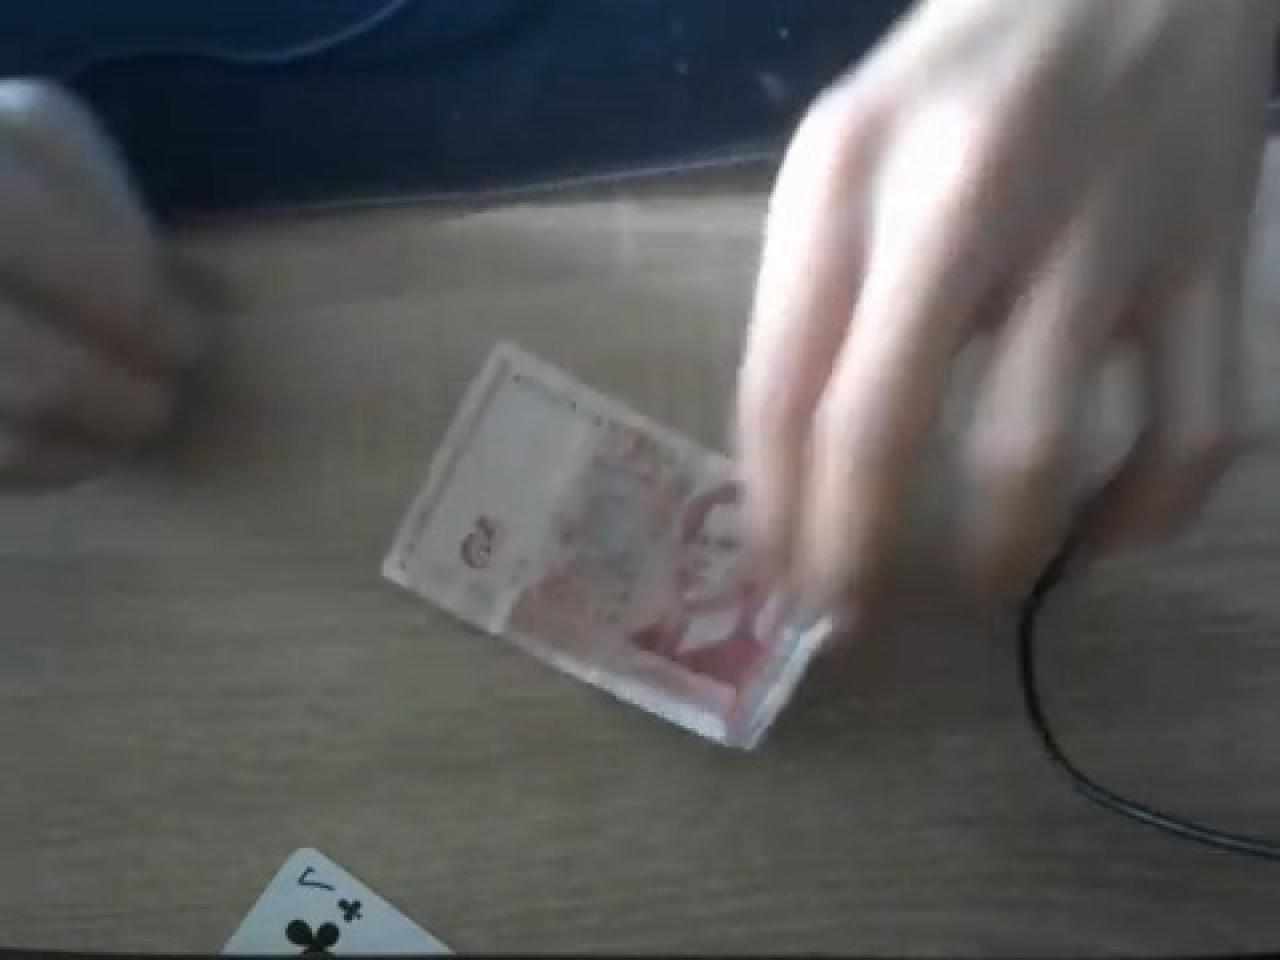5leva: (381, 341, 835, 755)
